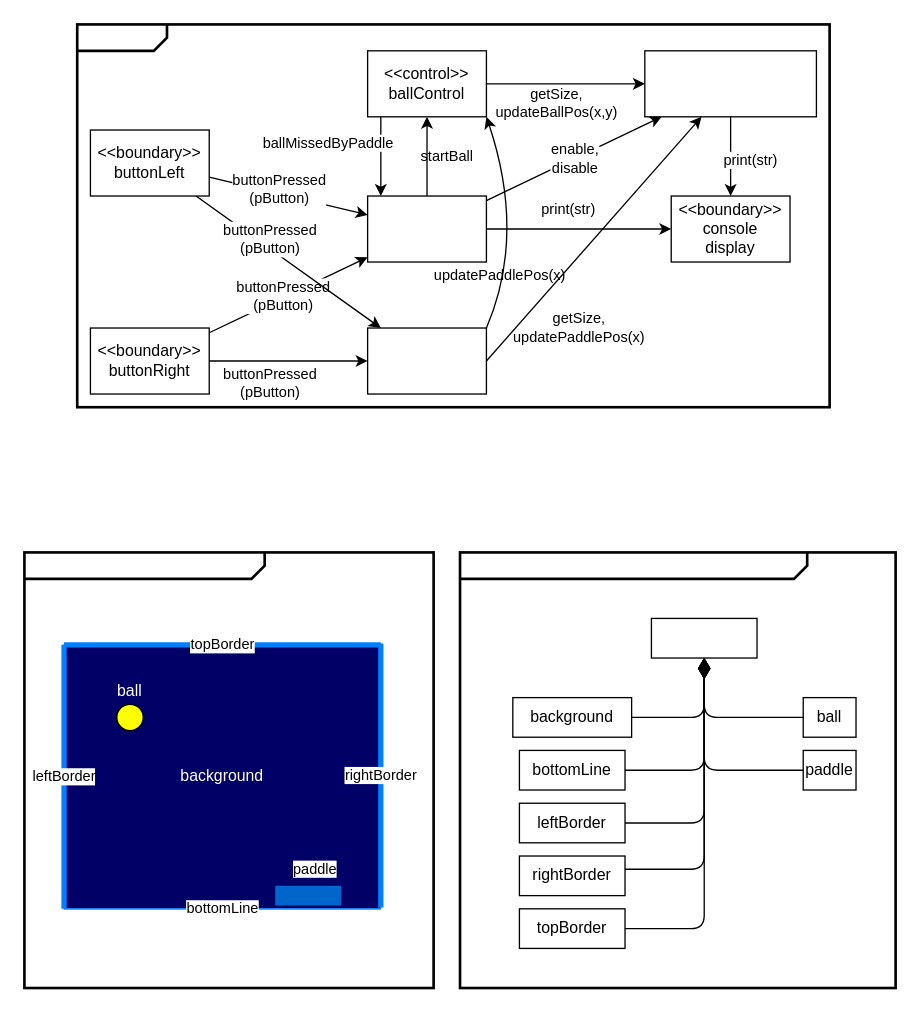
Some shapes in this 919 by 1011 pixel diagram are drawn without their labels. Here are the shapes that lost their labels. From the top down, the box of each, then its label:
(644, 50, 816, 117): <<control>> SceneDisplayControl
(366, 195, 486, 262): <<control>> gameControl
(75, 22, 830, 408): om Pong
(366, 327, 486, 394): <<control>> paddleControl
(650, 617, 757, 658): pageGame
(22, 550, 434, 989): sketch Pong Game Page GUI
(458, 550, 896, 989): bdd Pong Game Page widgets Data structure
